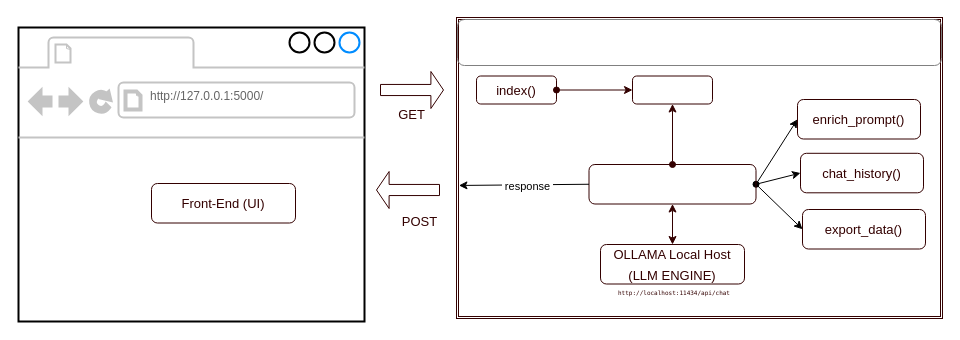
Some shapes in this 960 by 340 pixel diagram are drawn without their labels. Each missing label, with the box of its shape:
chat(): (632, 75, 712, 104)
Chatbot: (78, 38, 188, 66)
Flask App (App.py): (456, 18, 942, 66)
get_chat_response(): (588, 164, 756, 204)
